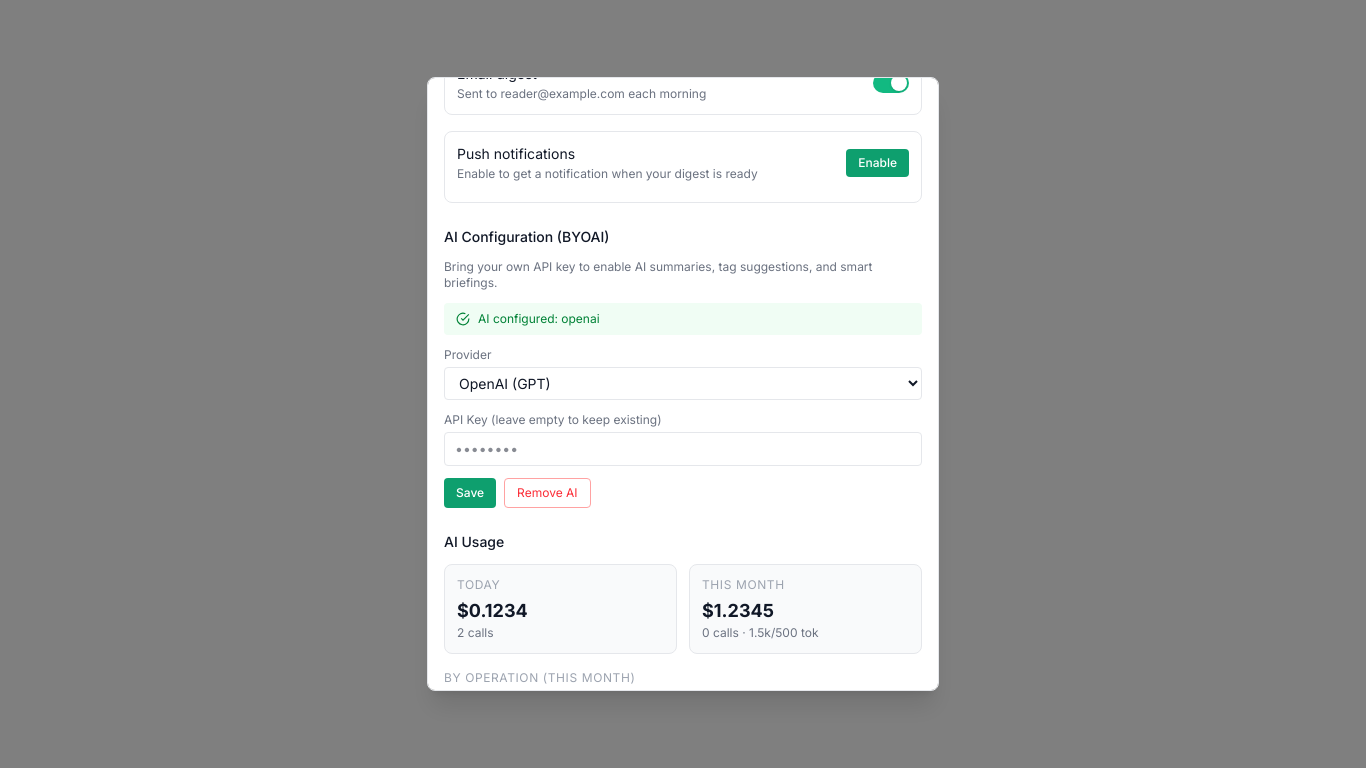
Scenario: SettingsPage › saves cleared AI settings when an existing key is already configured
The width and height of the screenshot is (1366, 768).
(page scrolled)
Expected: the text "AI configured: openai" is shown, [444,304,922,336]
Select "None (AI disabled)" in the dropdown at (683,384), box [444,368,922,400]
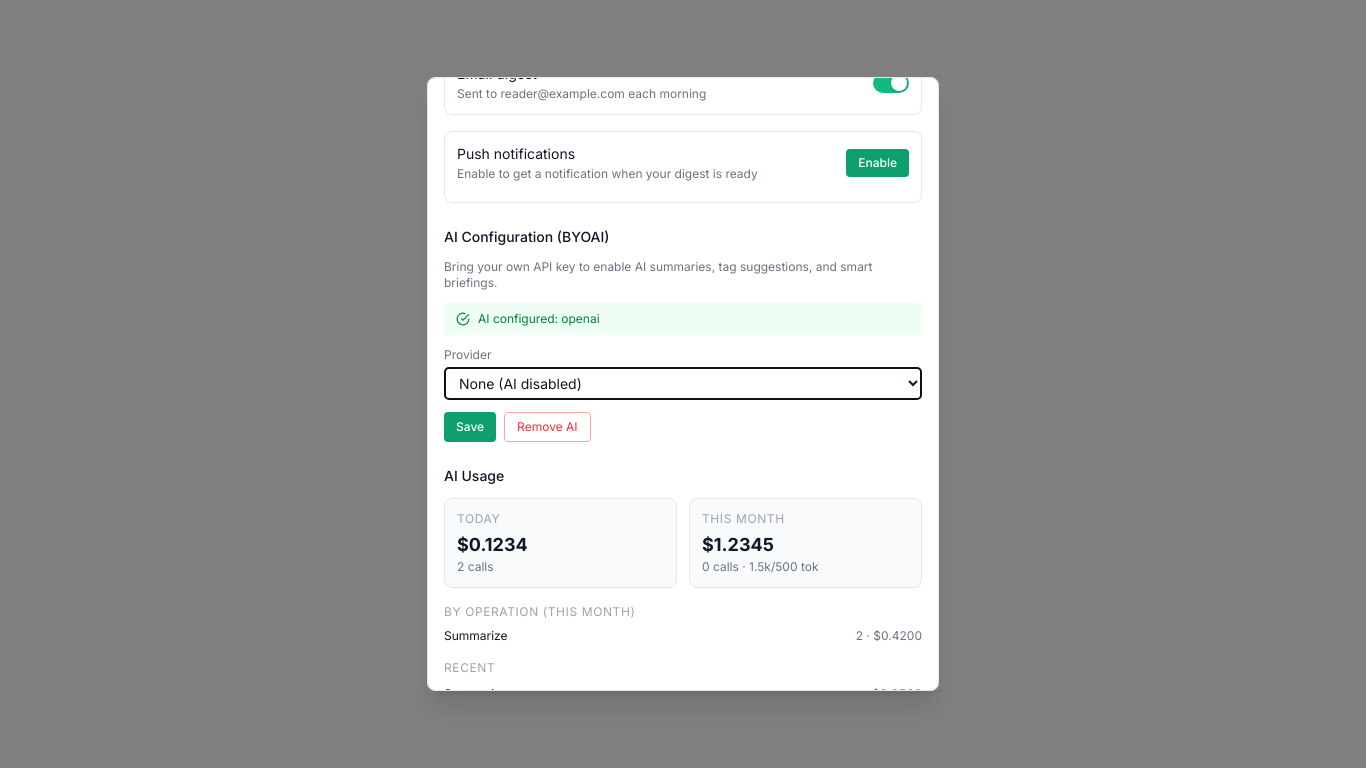
Click the button "Save" at (470,428), box [444,412,496,442]
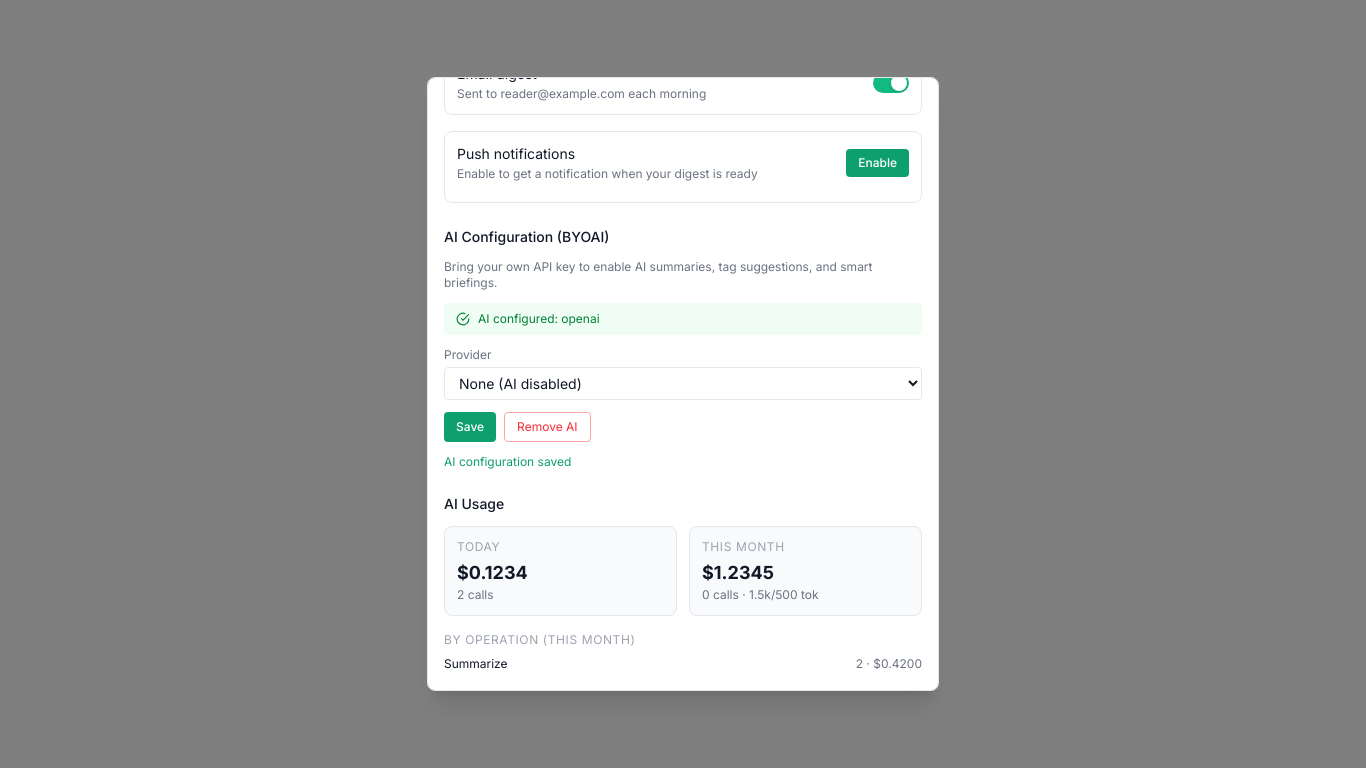
Now the text "AI configuration saved" is shown, box [444,454,571,470]
